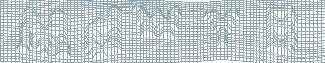B: (264, 4, 300, 59)
M: (16, 5, 74, 61)
Y: (201, 6, 241, 49)
d: (82, 3, 125, 61)
w: (134, 3, 182, 43)
